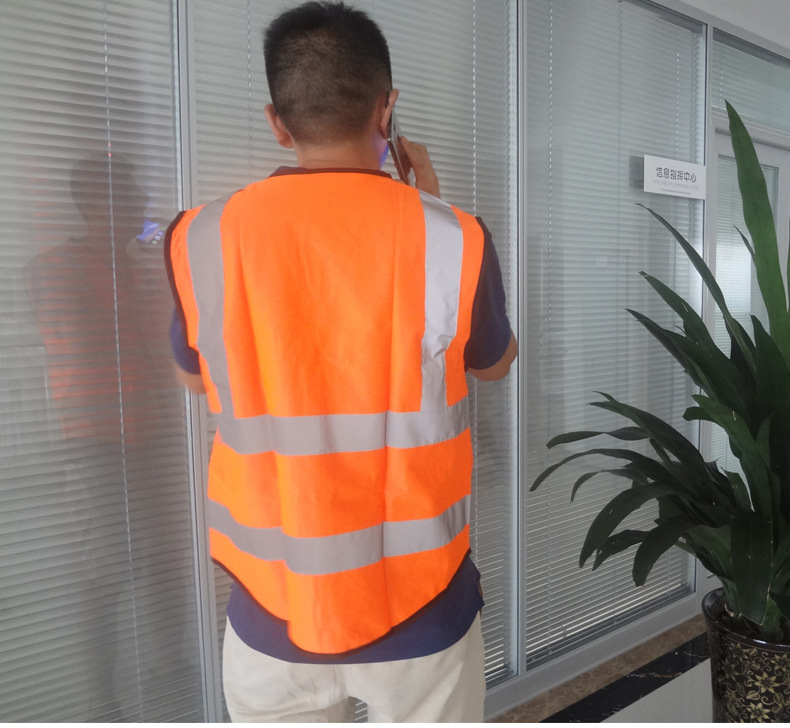vest: (152, 2, 535, 665)
